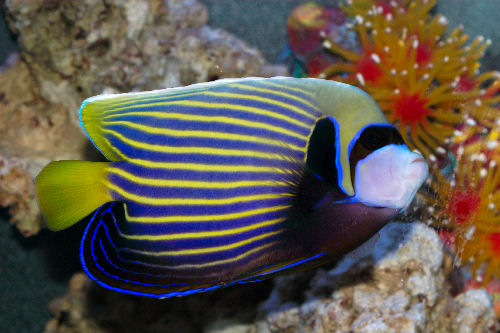Pomacanthus_imperator: (35, 75, 427, 297)
